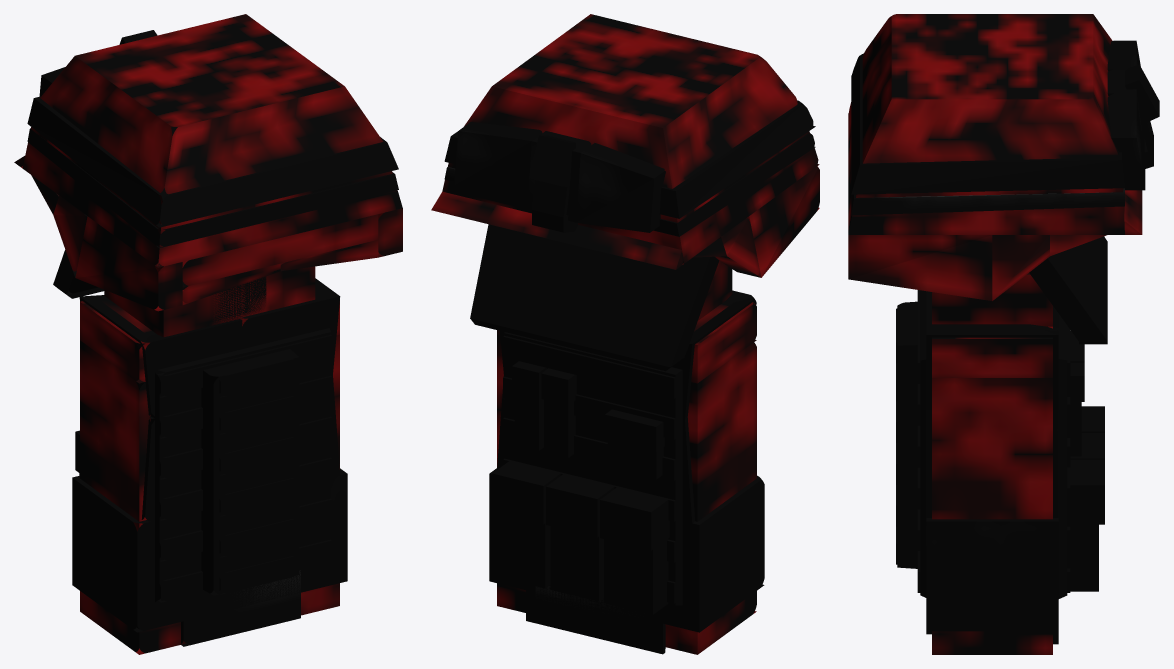
Rendered from marinefury.obj.
The picture shows the model from 3 angles, left to right: view 1: azimuth 30°, elevation 25°; view 2: azimuth 150°, elevation 25°; view 3: azimuth 270°, elevation 25°; orthographic projection.
Visible parts, largest first — view 1: headModel1, bodyModel0, bodyModel31, bodyModel38, headModel15, bodyModel16, headModel0, headModel11, headModel4, headModel8, bodyModel2, rightArmModel0 (+22 smaller); view 2: headModel1, headModel12, bodyModel38, bodyModel0, bodyModel4, headModel17, headModel16, headModel0, headModel15, headModel14, bodyModel11, bodyModel14 (+27 smaller); view 3: headModel1, bodyModel38, bodyModel0, headModel15, headModel0, headModel7, bodyModel31, headModel12, bodyModel40, headModel11, leftArmModel0, bodyModel3 (+16 smaller).
Boxes of the visible parts, x1,y1,x2,y2 form: headModel1: (40,14,383,194); bodyModel0: (72,468,347,632); bodyModel31: (201,349,299,595); bodyModel38: (80,334,339,654); headModel15: (27,96,398,227); bodyModel16: (136,328,330,604); headModel0: (22,127,402,267); headModel11: (27,128,398,248); headModel4: (75,216,182,311); headModel8: (182,214,378,287); bodyModel2: (79,295,242,418); rightArmModel0: (104,276,266,344); headModel1: (457,14,797,188); headModel12: (470,224,719,367); bodyModel38: (497,334,756,654); bodyModel0: (489,468,764,632); bodyModel4: (504,332,682,605); headModel17: (576,143,665,232); headModel16: (454,122,542,210); headModel0: (442,131,819,263); headModel15: (444,100,815,218); headModel14: (431,191,683,269); bodyModel11: (526,590,665,654); bodyModel14: (604,538,668,614); headModel1: (862,14,1119,163); bodyModel38: (932,378,1052,654); bodyModel0: (926,518,1058,631); headModel15: (851,53,1124,194); headModel0: (848,102,1124,234); headModel7: (848,235,992,300); bodyModel31: (897,301,919,568); headModel12: (1029,236,1107,341); bodyModel40: (932,326,1052,377); headModel11: (851,188,1124,215); leftArmModel0: (932,273,1052,326); bodyModel3: (926,291,1058,409).
Bounding box in the file's own units: 11 × 21.2 × 10.8.
